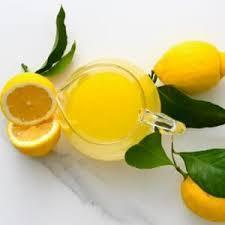lemon: (153, 40, 225, 92), (0, 72, 56, 125), (8, 113, 62, 156), (181, 174, 225, 222)
